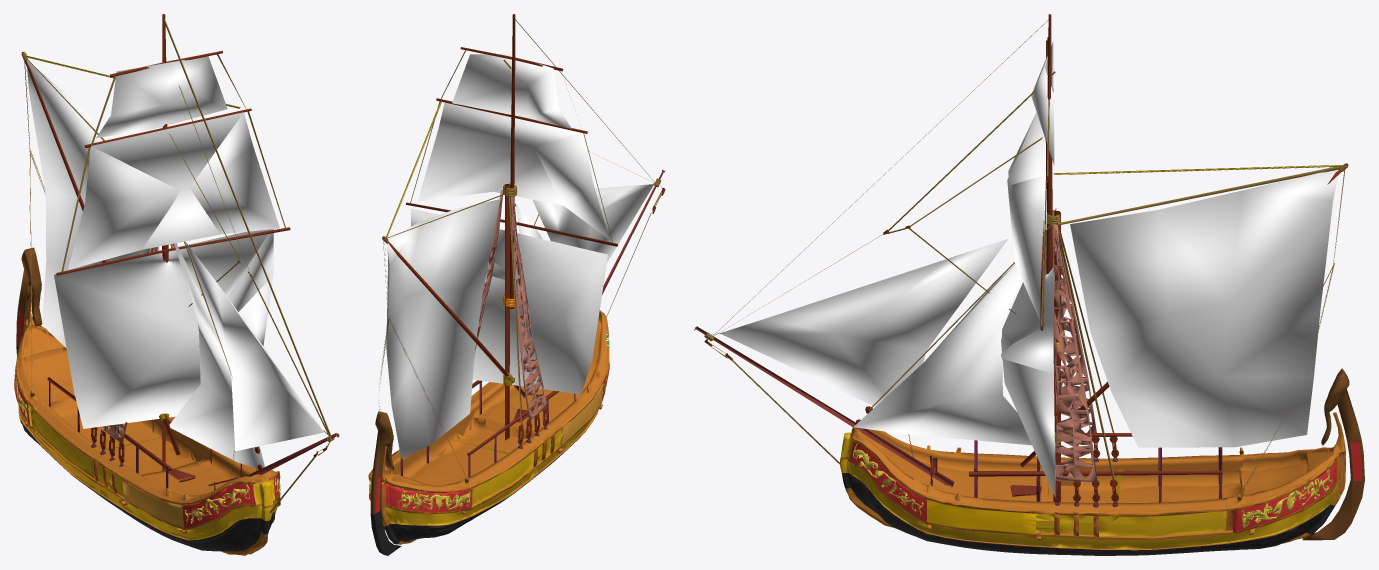
The model's file is barco-ligero.glb.
The picture shows the model from 3 angles, left to right: view 1: azimuth 30°, elevation 25°; view 2: azimuth 150°, elevation 25°; view 3: azimuth 270°, elevation 25°; orthographic projection. The views are drawn at different scales.
Visible parts, largest first — view 1: Plane.002, Cube, Plane, Plane.003, Cylinder.004, Plane.001, Cylinder.001, Cube.001, Cube.011, Plane.010, Cylinder, Cylinder.009 (+1 smaller); view 2: Cylinder.004, Cube, Plane.002, Plane, Plane.001, Plane.003, Plane.004, Cylinder.001, Cube.001, Cylinder.005, Plane.011, Cube.019 (+4 smaller); view 3: Cylinder.004, Cube, Plane.003, Plane.002, Plane.004, Plane, Cube.001, Cylinder.001, Cylinder, Plane.001, Cylinder.009, Cube.019 (+3 smaller).
Part boxes in pixels (box(x1,y1,x2,y2)): Plane.002: box(54, 229, 273, 428); Cube: box(14, 292, 280, 555); Plane: box(68, 112, 279, 269); Plane.003: box(169, 242, 323, 468); Cylinder.004: box(26, 59, 159, 347); Plane.001: box(96, 56, 227, 137); Cylinder.001: box(21, 14, 290, 455); Cube.001: box(16, 247, 42, 356); Cube.011: box(163, 19, 330, 435); Plane.010: box(184, 477, 280, 523); Cylinder: box(246, 433, 339, 476); Cylinder.009: box(47, 377, 171, 470); Cylinder.004: box(386, 199, 500, 459); Cube: box(368, 310, 609, 544); Plane.002: box(411, 208, 607, 394); Plane: box(417, 102, 609, 239); Plane.001: box(452, 54, 571, 128); Plane.003: box(516, 184, 654, 262); Plane.004: box(474, 190, 547, 420); Cylinder.001: box(382, 14, 617, 397); Cube.001: box(370, 411, 401, 555); Cylinder.005: box(504, 184, 510, 440); Plane.011: box(369, 479, 470, 510); Cube.019: box(498, 194, 522, 425); Cylinder.004: box(1070, 169, 1338, 447); Cube: box(839, 412, 1345, 555); Plane.003: box(720, 238, 1031, 445); Plane.002: box(1001, 208, 1056, 497); Plane.004: box(1052, 224, 1097, 481); Plane: box(1007, 112, 1045, 319); Cube.001: box(1302, 368, 1364, 540); Cylinder.001: box(1020, 14, 1348, 467); Cylinder: box(694, 326, 954, 487); Plane.001: box(1031, 41, 1054, 164); Cylinder.009: box(969, 433, 1222, 476); Cube.019: box(1056, 223, 1114, 480).
Size of the model in its own units: 3.1 by 6.45 by 7.39.
Materials: 11 (3 with a texture image).
